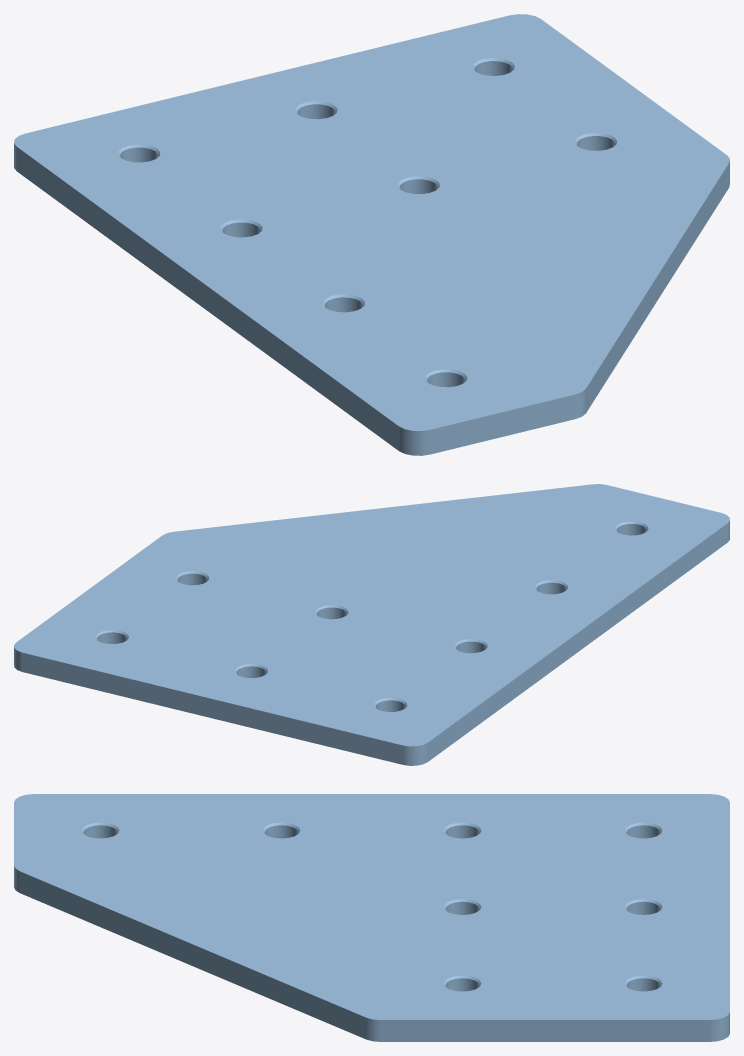
3 renders of one model, top to bottom at view 1: azimuth 30°, elevation 25°; view 2: azimuth 150°, elevation 25°; view 3: azimuth 270°, elevation 25°, orthographic. The views are drawn at different scales.
Parts seen in each view (by area): view 1: mesh1961, mesh1971, mesh1968, mesh1967, mesh1963; view 2: mesh1961, mesh1970, mesh1971, mesh1966; view 3: mesh1961, mesh1968, mesh1969, mesh1964.
Part boxes in pixels (bbox=[...]): mesh1961: bbox=[14, 14, 729, 430]; mesh1971: bbox=[17, 147, 398, 450]; mesh1968: bbox=[586, 163, 729, 412]; mesh1967: bbox=[430, 394, 575, 454]; mesh1963: bbox=[399, 426, 429, 455]; mesh1961: bbox=[14, 484, 729, 746]; mesh1970: bbox=[22, 653, 403, 764]; mesh1971: bbox=[427, 523, 727, 761]; mesh1966: bbox=[403, 743, 427, 765]; mesh1961: bbox=[14, 794, 729, 1019]; mesh1968: bbox=[20, 871, 365, 1039]; mesh1969: bbox=[380, 1020, 709, 1041]; mesh1964: bbox=[710, 1012, 729, 1041].
Bounding box in the file's own units: 0.133 × 0.006 × 0.178.
